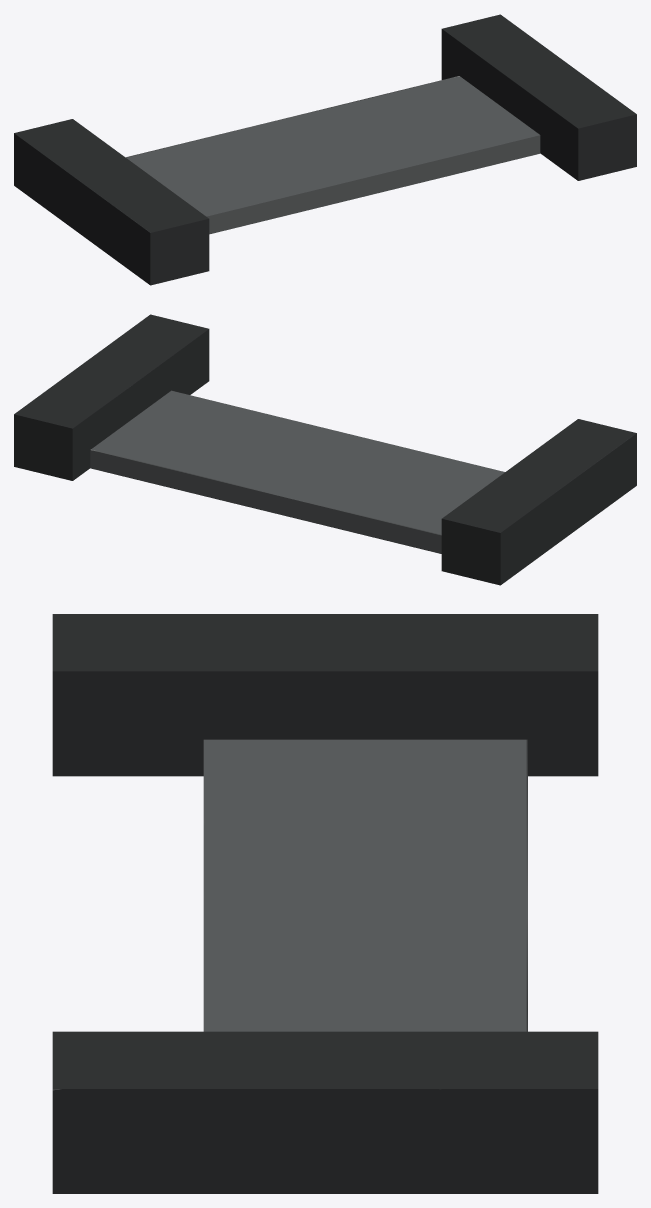
The model's file is door_peace.obj.
3 renders of one model, top to bottom at view 1: azimuth 30°, elevation 25°; view 2: azimuth 150°, elevation 25°; view 3: azimuth 270°, elevation 25°, orthographic. The views are drawn at different scales.
Visible parts, largest first — view 1: 立方体.008; view 2: 立方体.008; view 3: 立方体.008.
Part boxes in pixels (box(x1,y1,x2,y2)): 立方体.008: box(14, 14, 636, 285); 立方体.008: box(14, 314, 636, 585); 立方体.008: box(52, 614, 598, 1193).
Bounding box in the file's own units: 181 × 18.71 × 87.85.
1 material, 1 textured.
